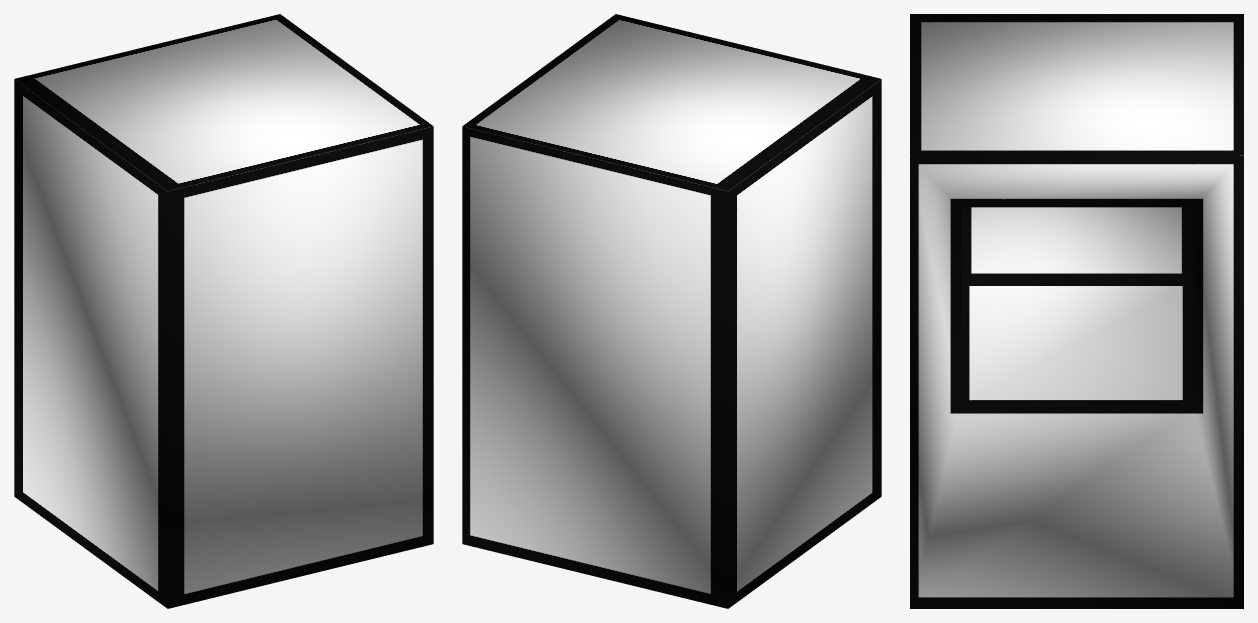
File: feeder.fbx
The picture shows the model from 3 angles, left to right: view 1: azimuth 30°, elevation 25°; view 2: azimuth 150°, elevation 25°; view 3: azimuth 270°, elevation 25°; orthographic projection. The views are drawn at different scales.
Parts seen in each view (by area): view 1: Cube; view 2: Cube; view 3: Cube.
Part boxes in pixels (bbox=[...]): Cube: bbox=[14, 14, 433, 608]; Cube: bbox=[462, 14, 881, 608]; Cube: bbox=[910, 14, 1243, 608].
Bounding box in the file's own units: 200 × 300 × 200.
